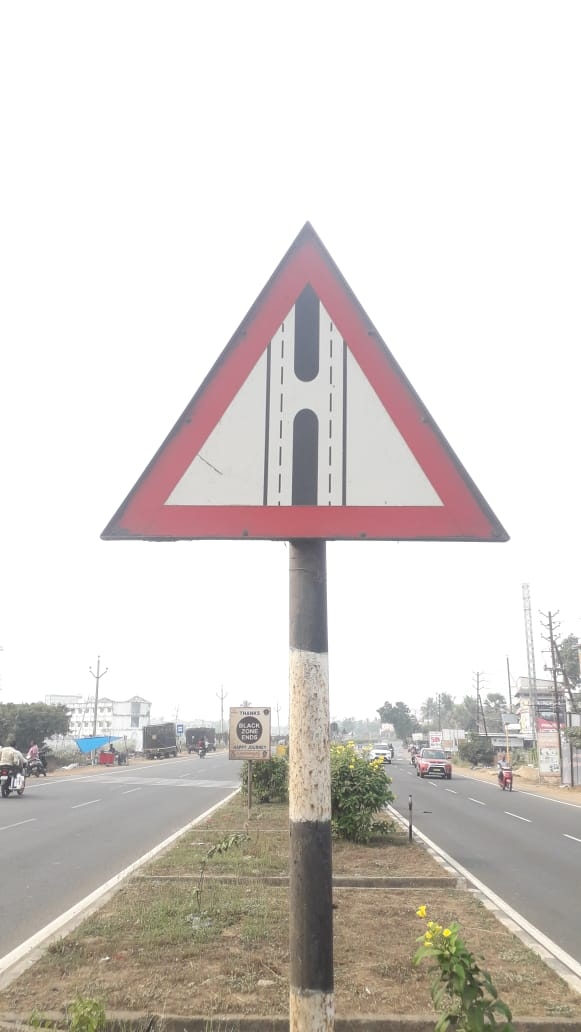highway go straight: (68, 222, 563, 592)
